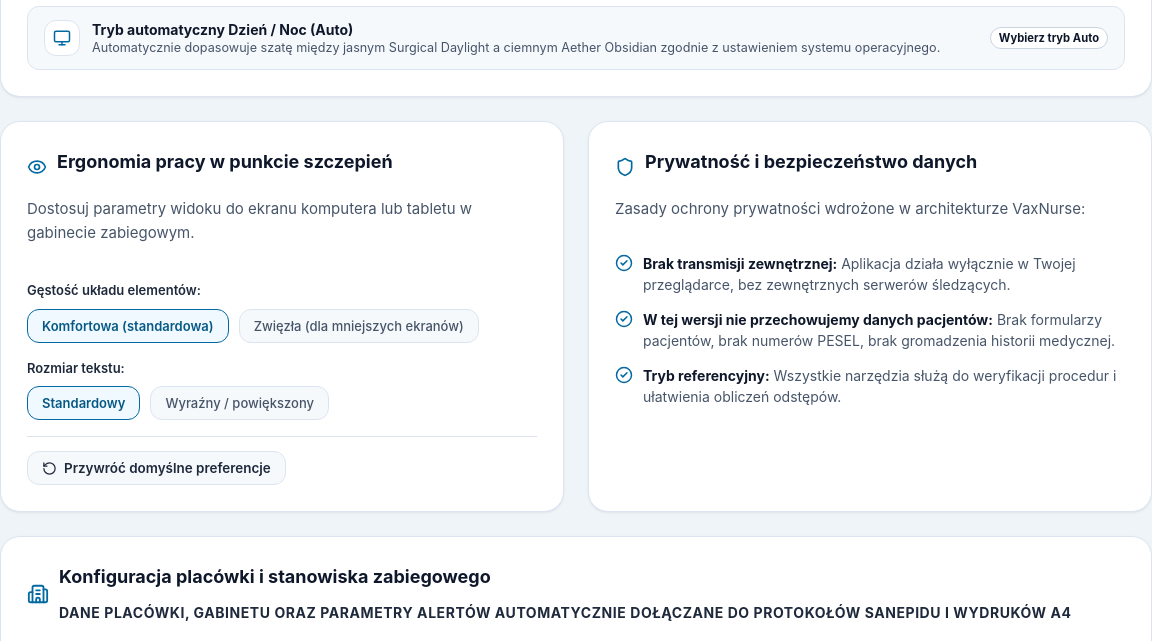
Test case: SettingsView — preferencje ergonomii i localStorage › obsługuje bezpiecznie błąd zapisu localStorage (QuotaExceededError) bez wywalenia komponentu
The width and height of the screenshot is (1152, 641).
(page scrolled)
Step 1. Click the button "Zwięzła (dla mniejszych ekranów)" → (359, 326), box [239, 309, 479, 343]
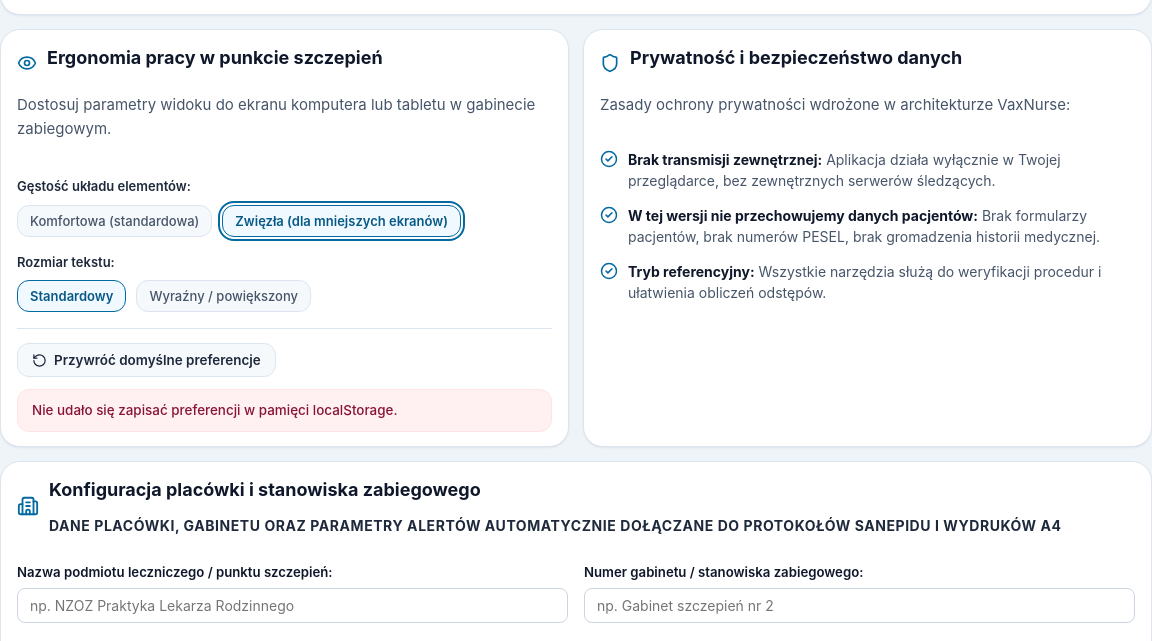
Check: the message shows "Nie udało się zapisać preferencji w pamięci localStorage", box [32, 402, 398, 418]
